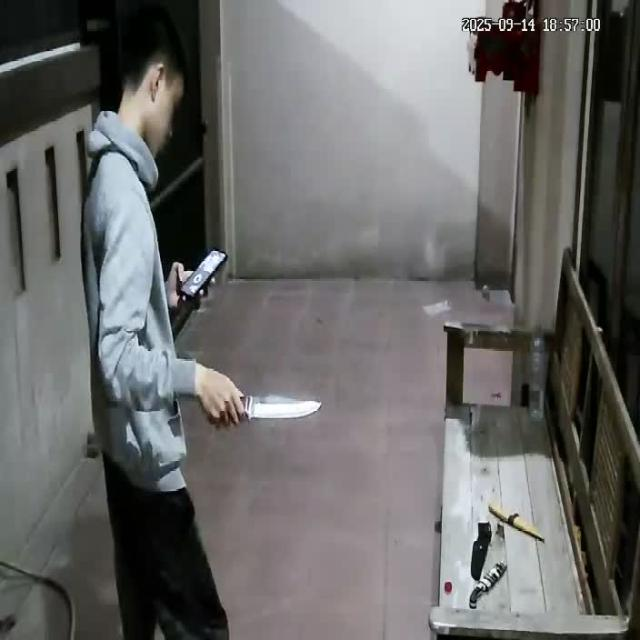senjata_tajam: (243, 390, 326, 420)
